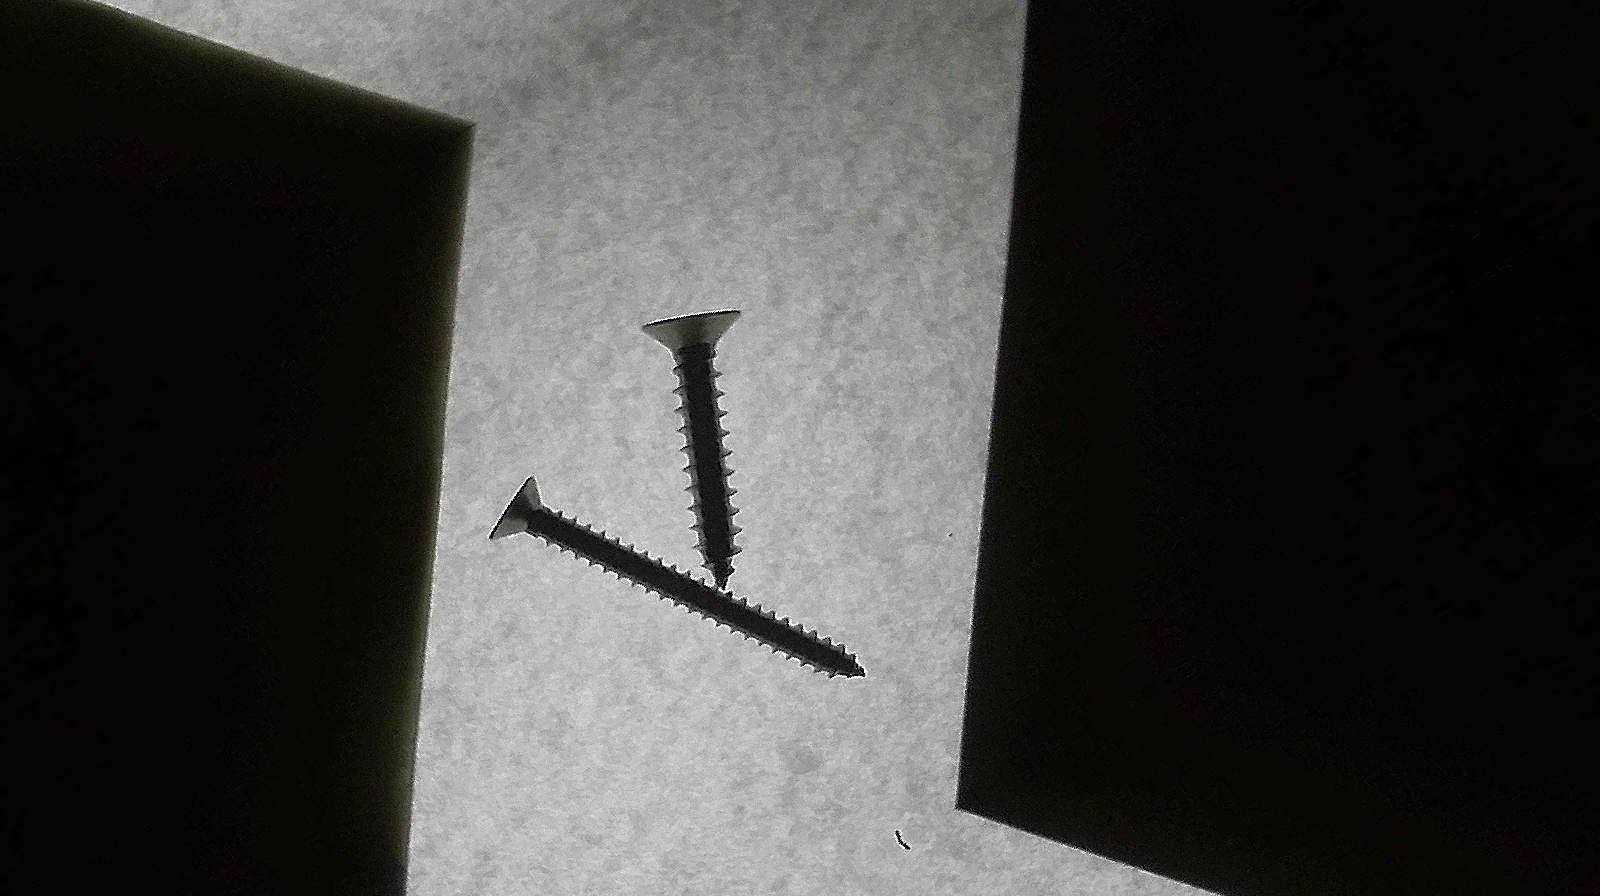S001: (562, 275, 871, 593)
S002: (463, 379, 881, 801)
